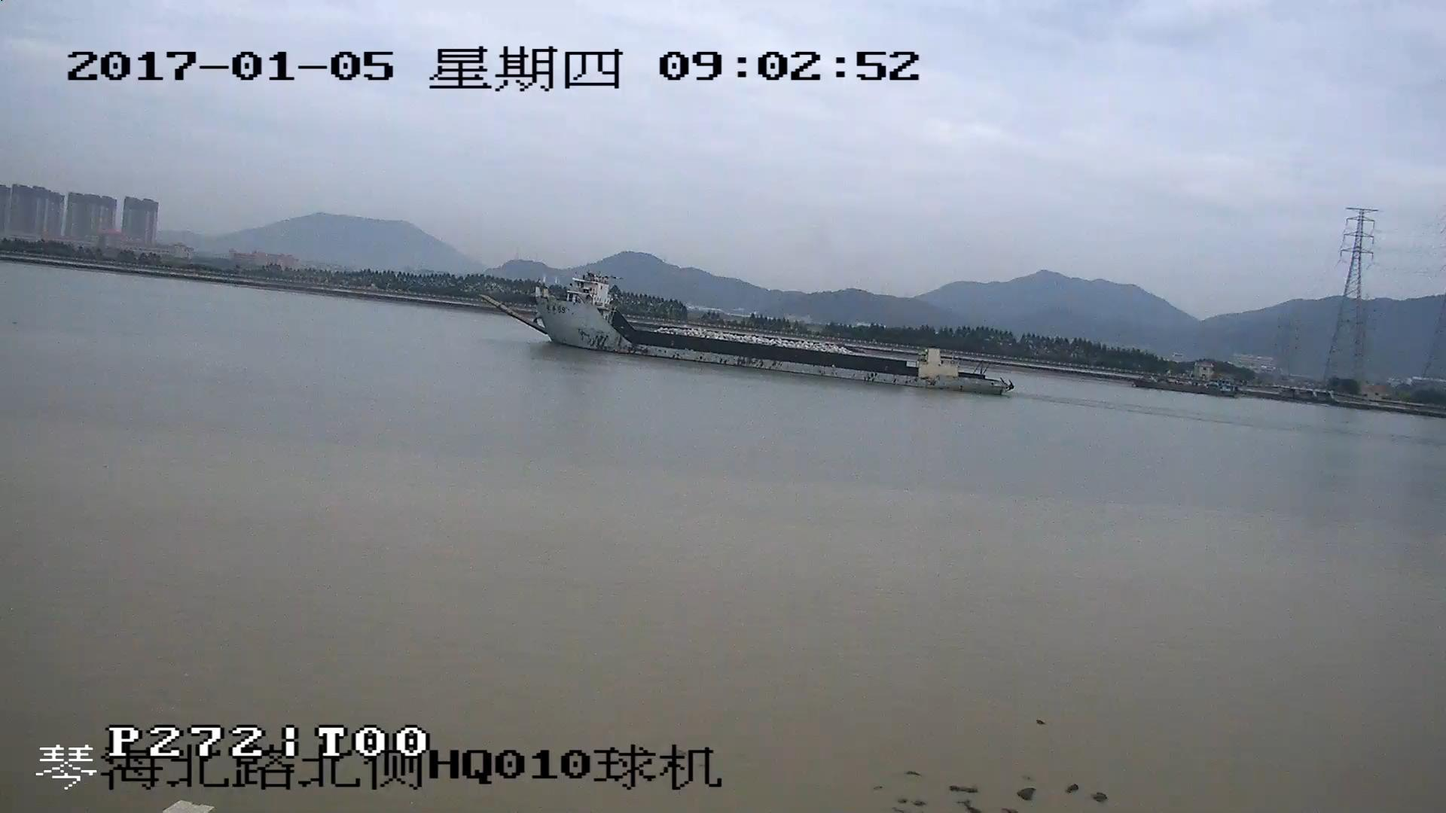bulk cargo carrier: (487, 273, 1007, 390)
